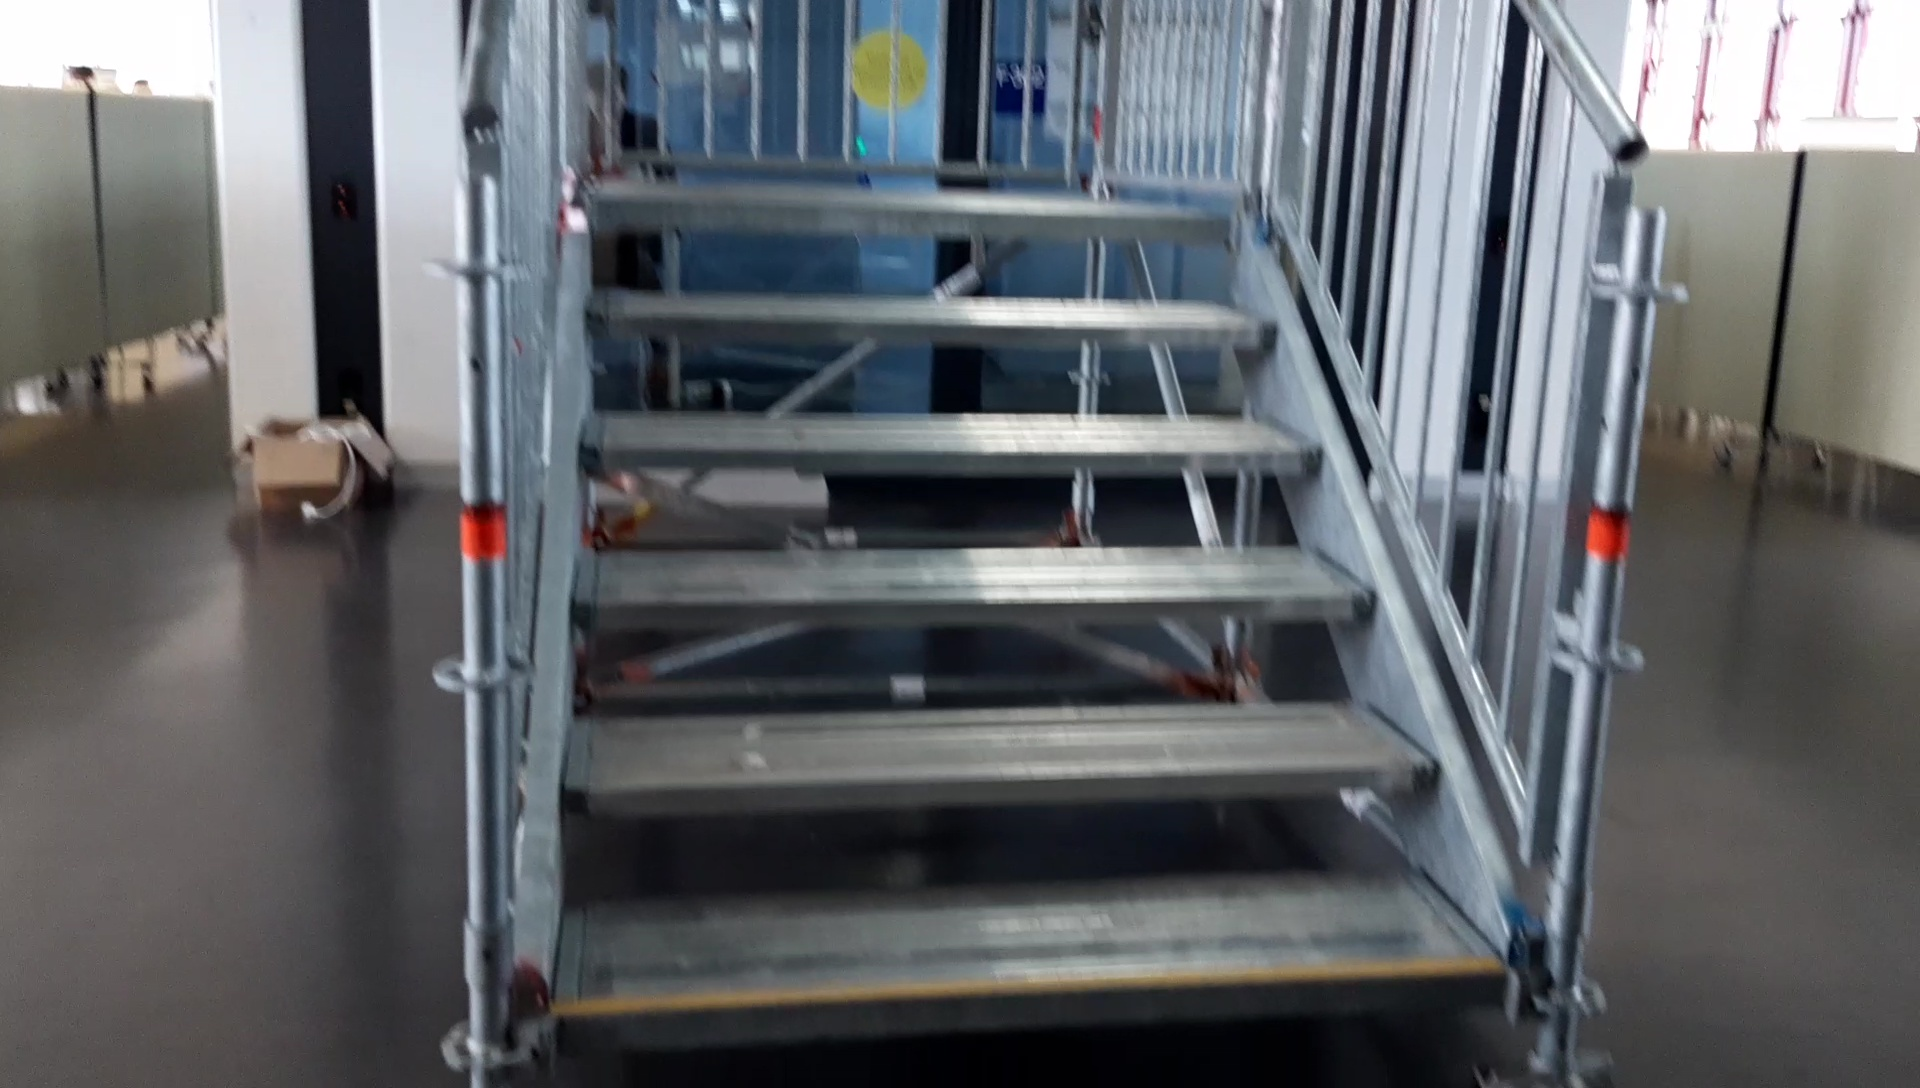edge: (558, 965, 1505, 1050), (558, 761, 1437, 815), (595, 193, 1237, 243), (570, 591, 1375, 628), (583, 310, 1279, 348), (578, 446, 1325, 471)
stairs: (421, 0, 1685, 1088)
steps: (553, 193, 1515, 1063)
